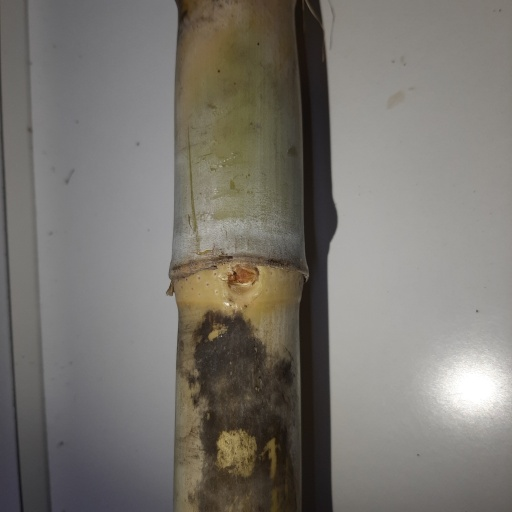Damage_Bud: (228, 263, 258, 295)
